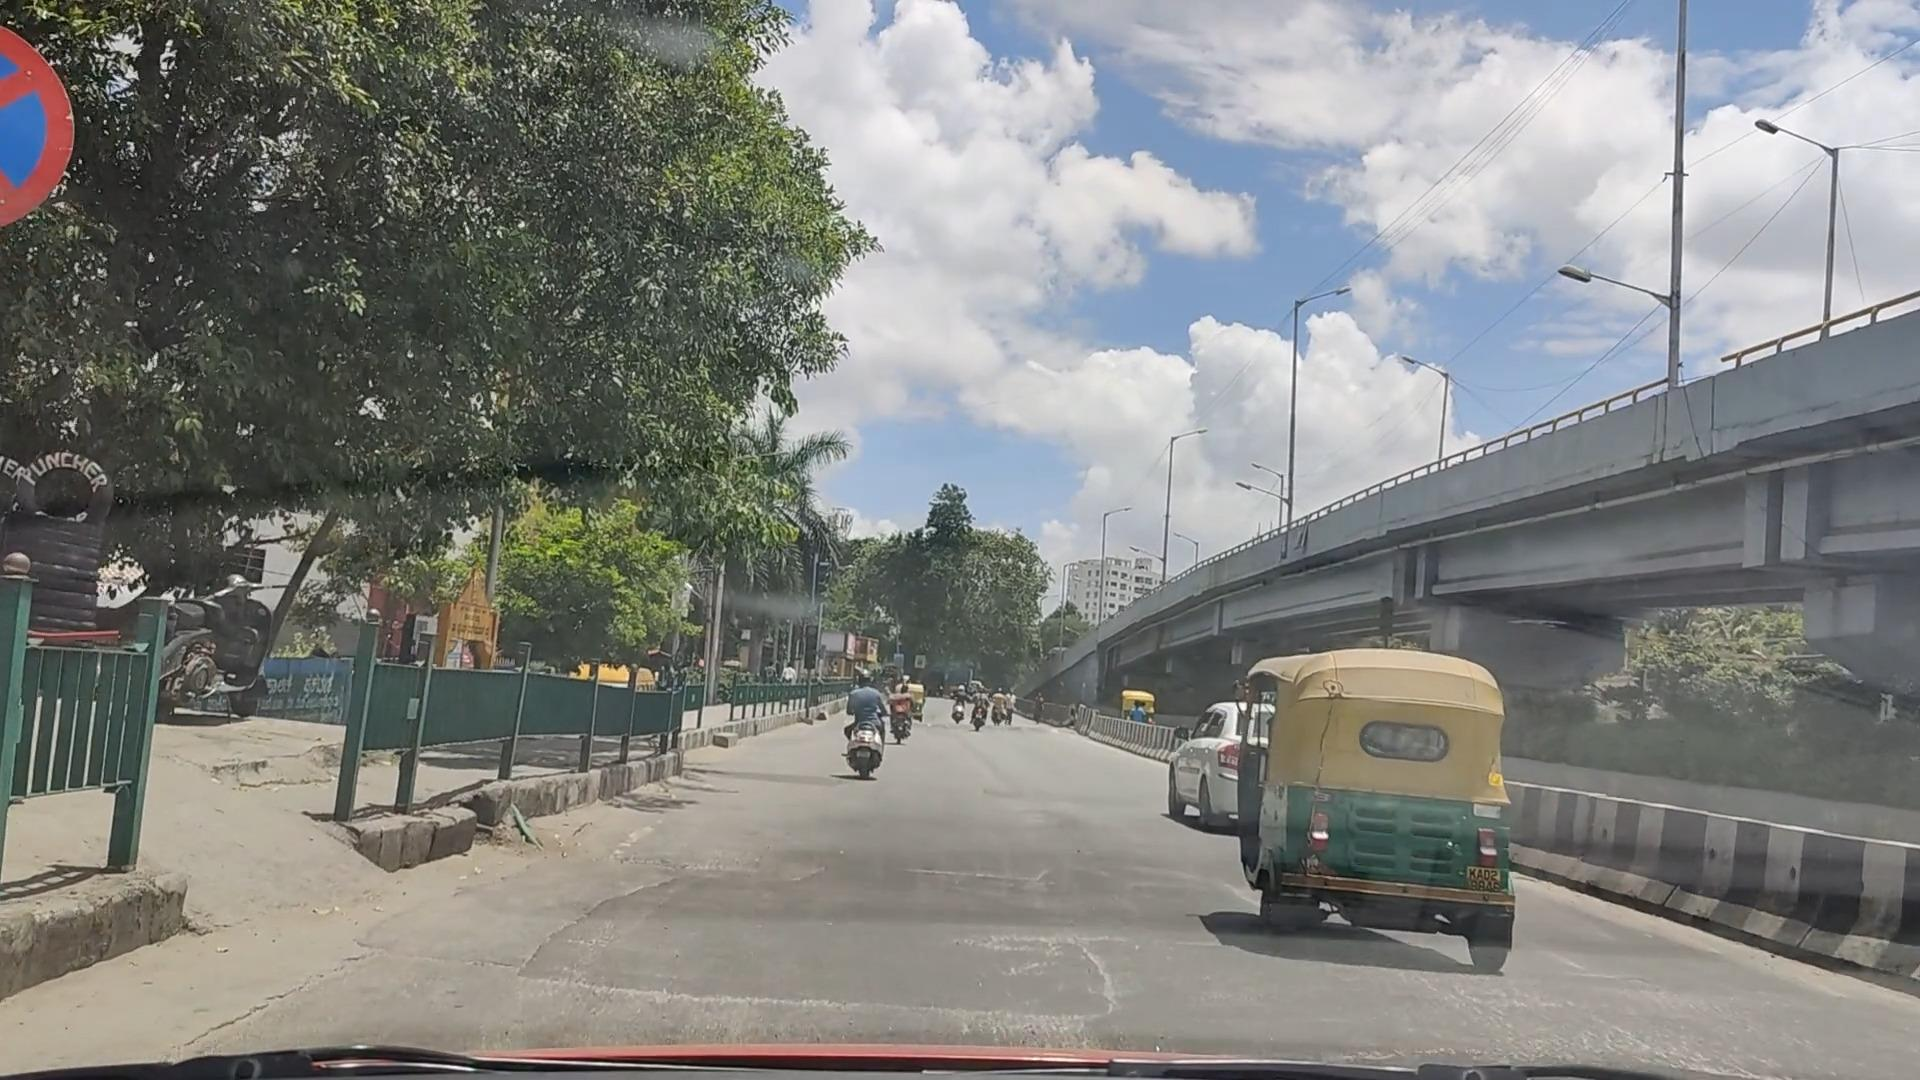LMV: (1266, 641, 1526, 942)
RoadDamages: (1389, 968, 1672, 1069), (951, 926, 1120, 1047), (910, 848, 1069, 909), (1178, 853, 1258, 902)
